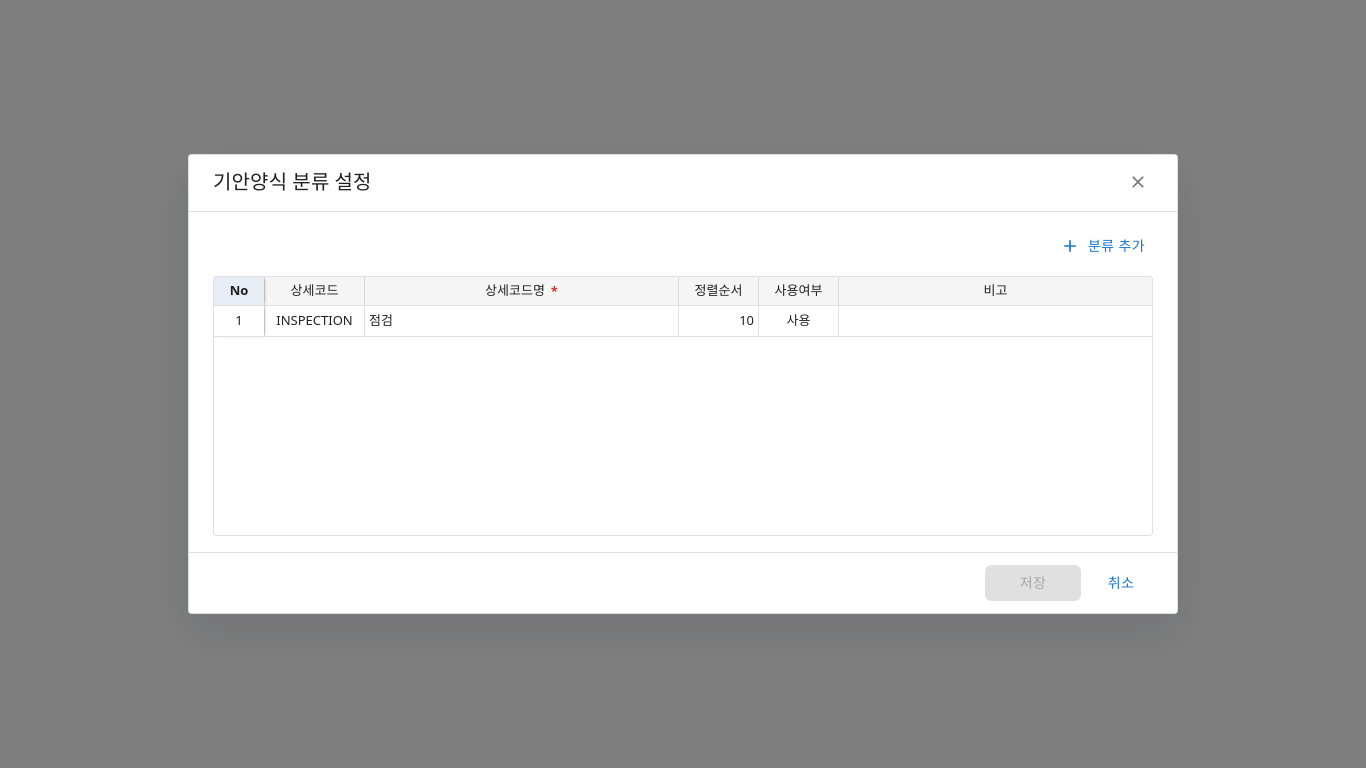
CommonCodeItemHelpDialog › confirms dirty close and supports canceling or discarding the edits
Double-click the cell "점검" at (521, 321), box x1=364 y1=305 x2=678 y2=337
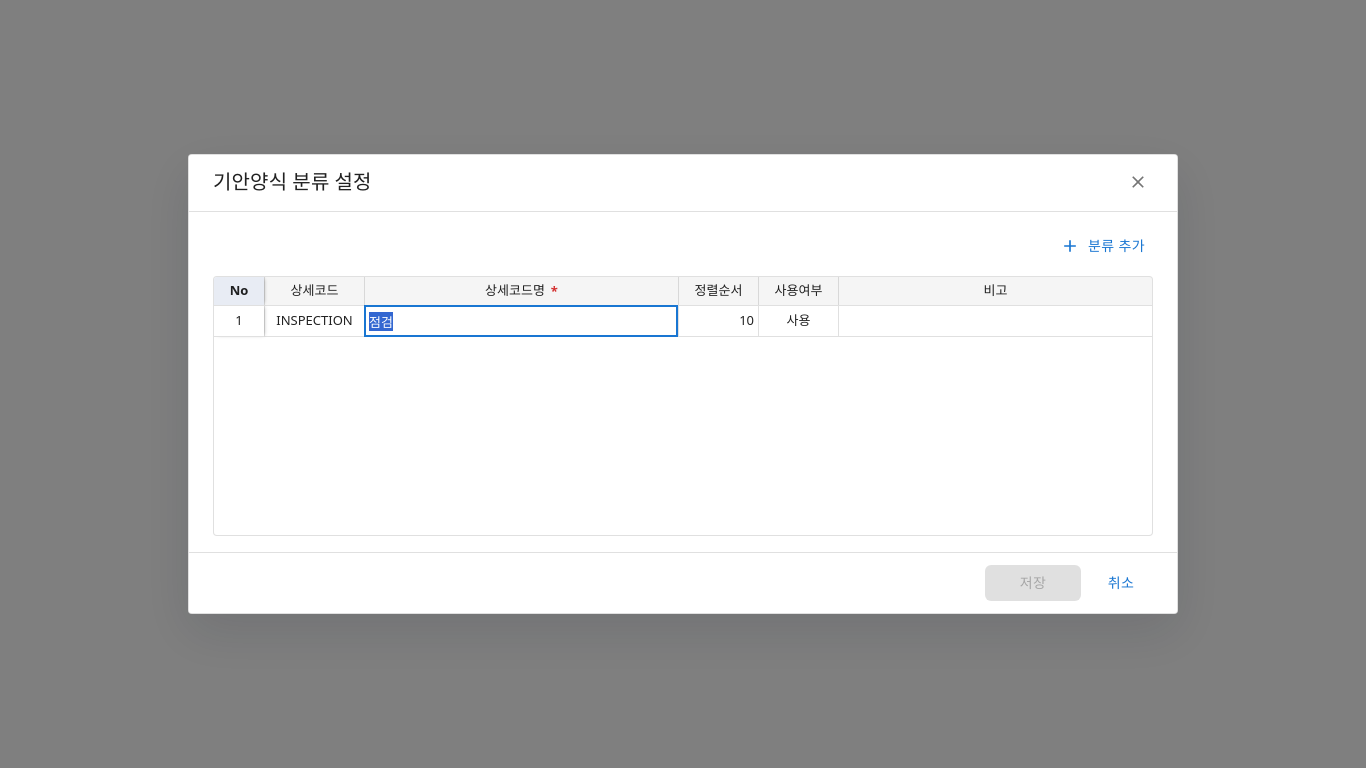
Replace the text in the field showing "점검" with "정기점검" at (522, 321), box x1=369 y1=310 x2=674 y2=332
Press Enter in the field showing "점검", box x1=369 y1=310 x2=674 y2=332
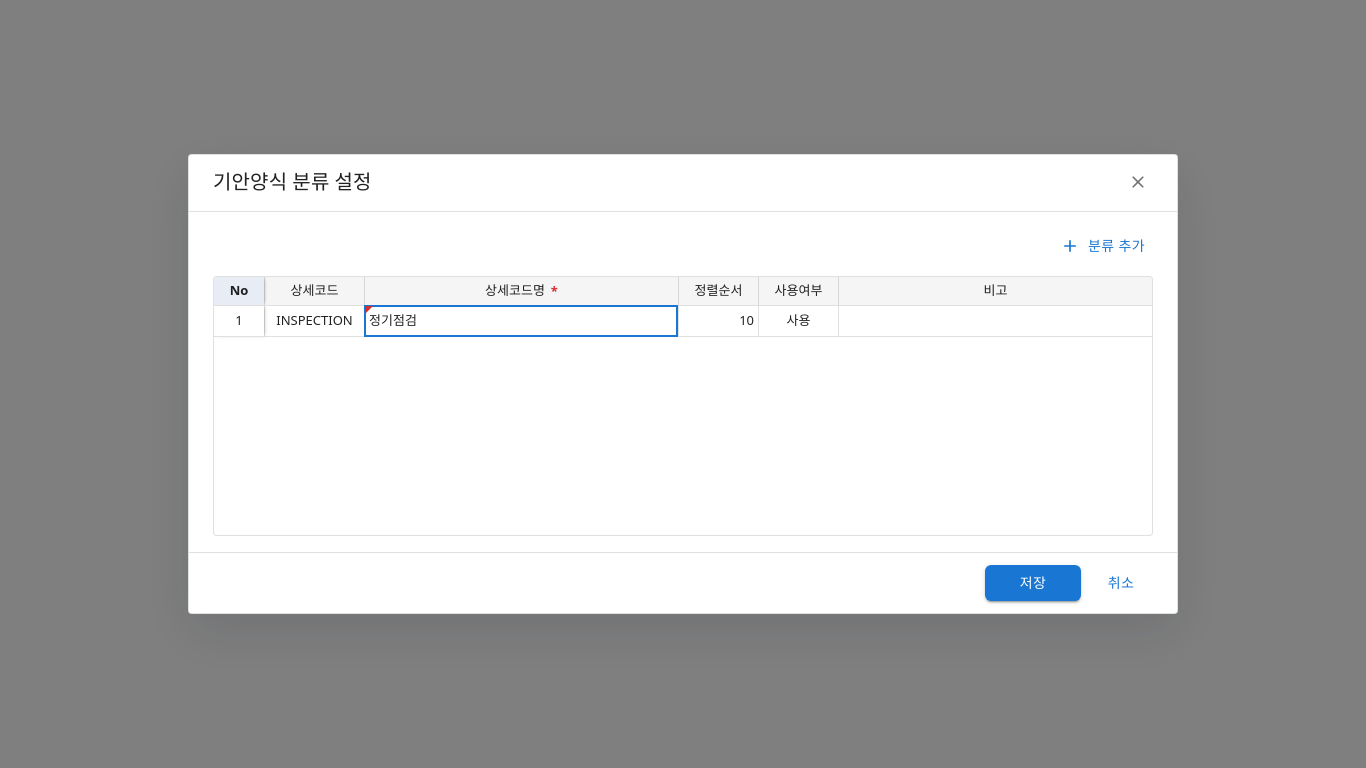
Click the button "취소" at (1121, 583), box x1=1089 y1=565 x2=1153 y2=601
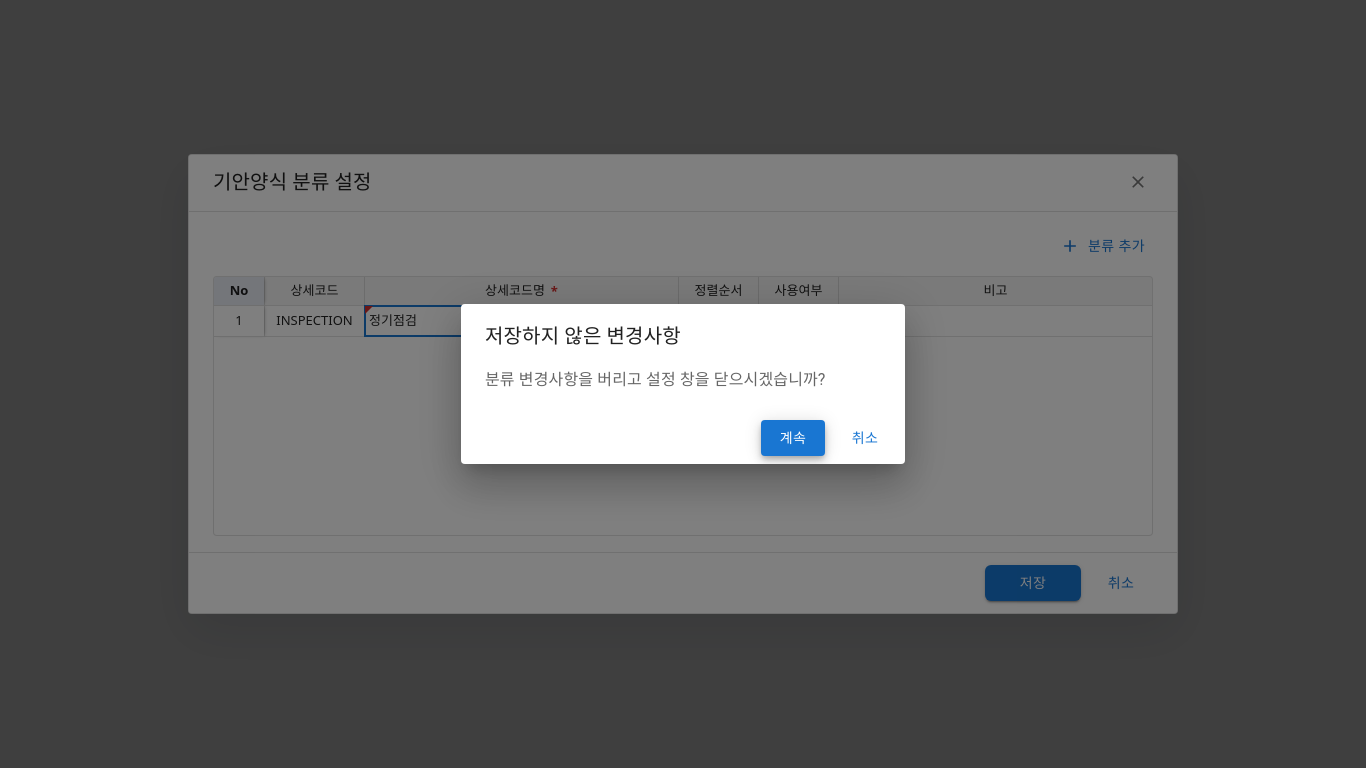
Expected: the dialog "저장하지 않은 변경사항" shows "분류 변경사항을 버리고 설정 창을 닫으시겠습니까?", x1=485 y1=370 x2=826 y2=389
Click the button "취소" at (865, 438), box x1=833 y1=420 x2=897 y2=456
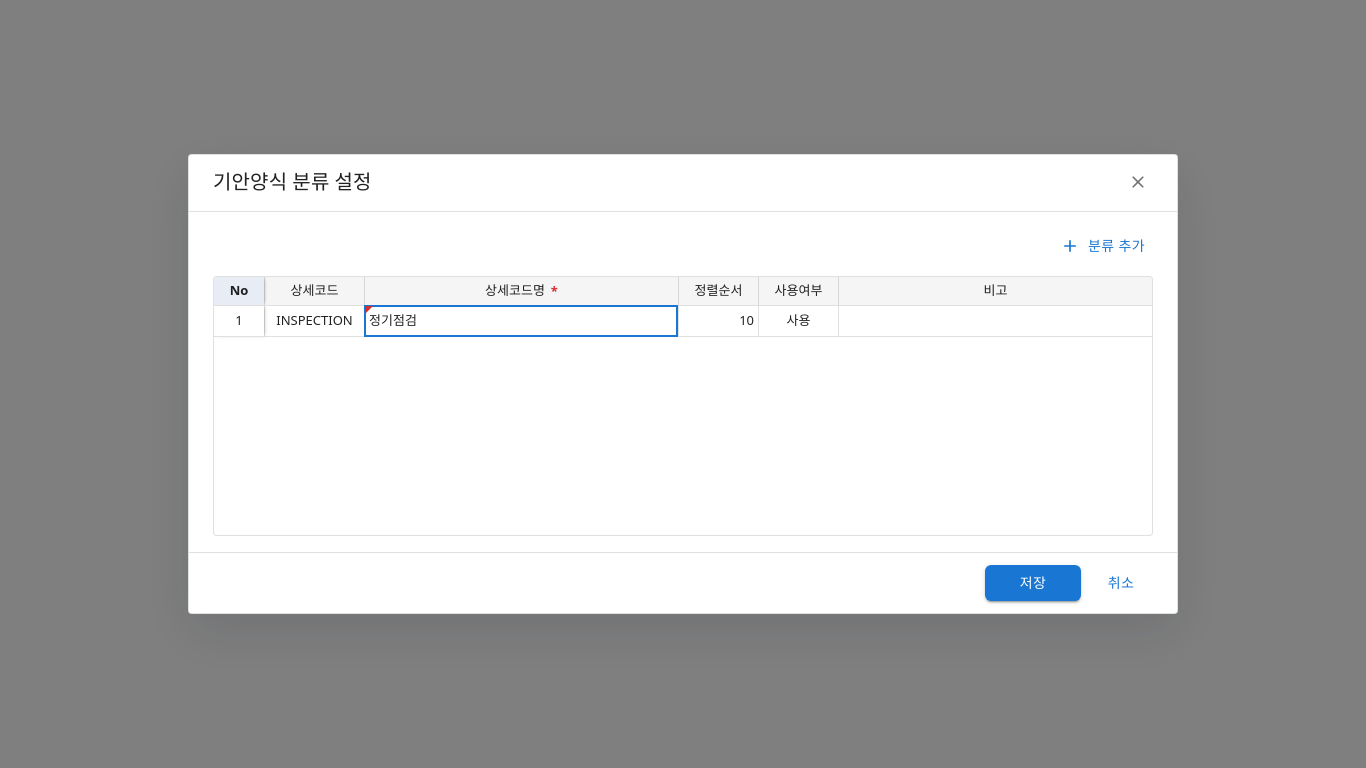
Expected: the dialog "기안양식 분류 설정" is shown, x1=188 y1=154 x2=1178 y2=614
Expected: the cell "정기점검" is shown, x1=365 y1=306 x2=417 y2=329
Click the button named "닫기" at (1138, 182), box x1=1123 y1=167 x2=1153 y2=197
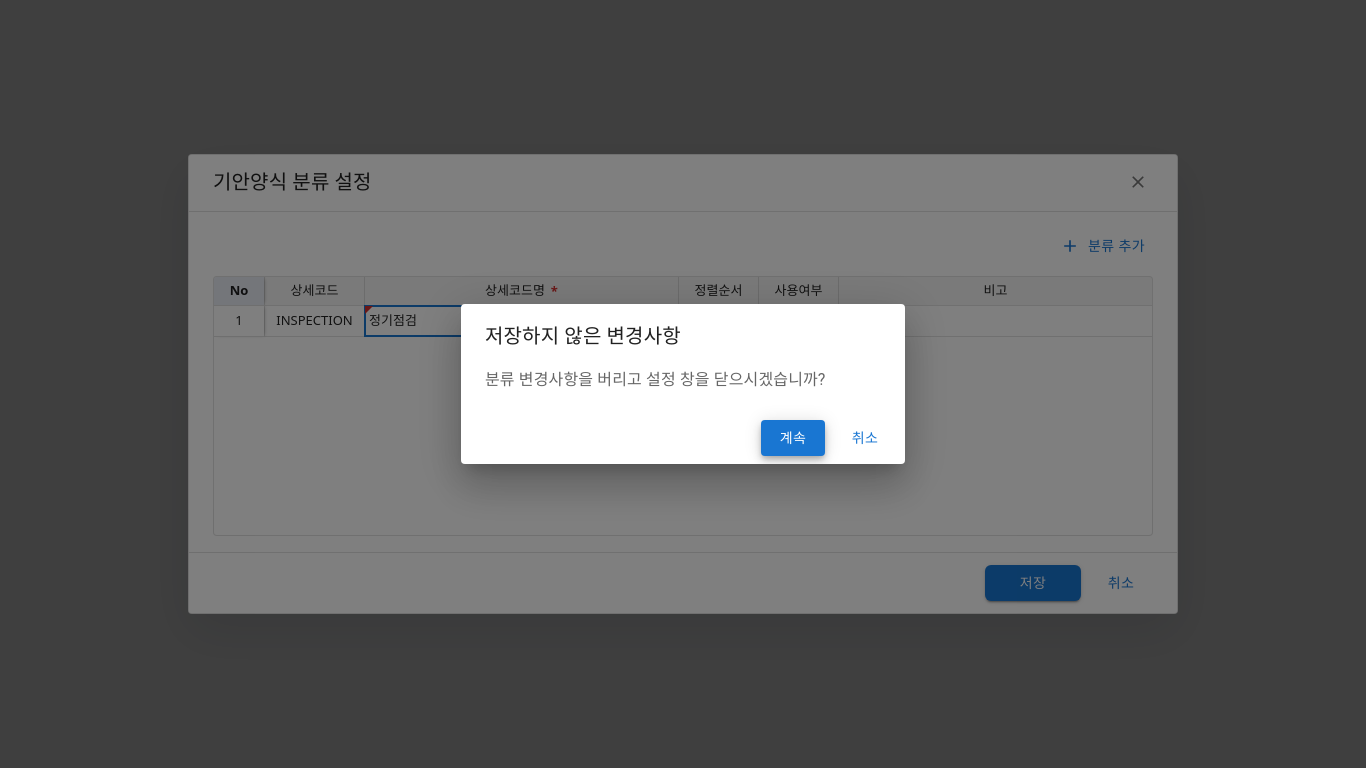
Click the button "계속" at (793, 438), box x1=761 y1=420 x2=825 y2=456
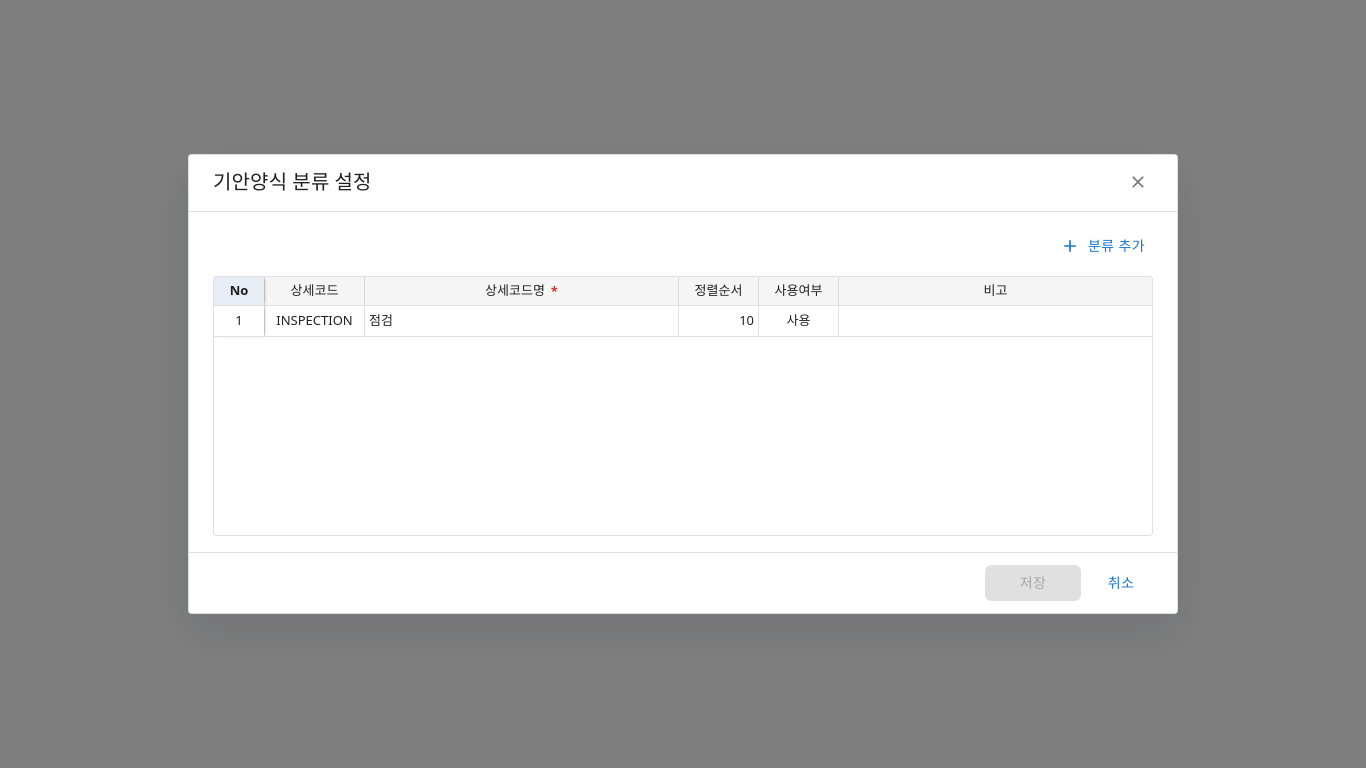
Expected: the heading "저장하지 않은 변경사항" is gone
